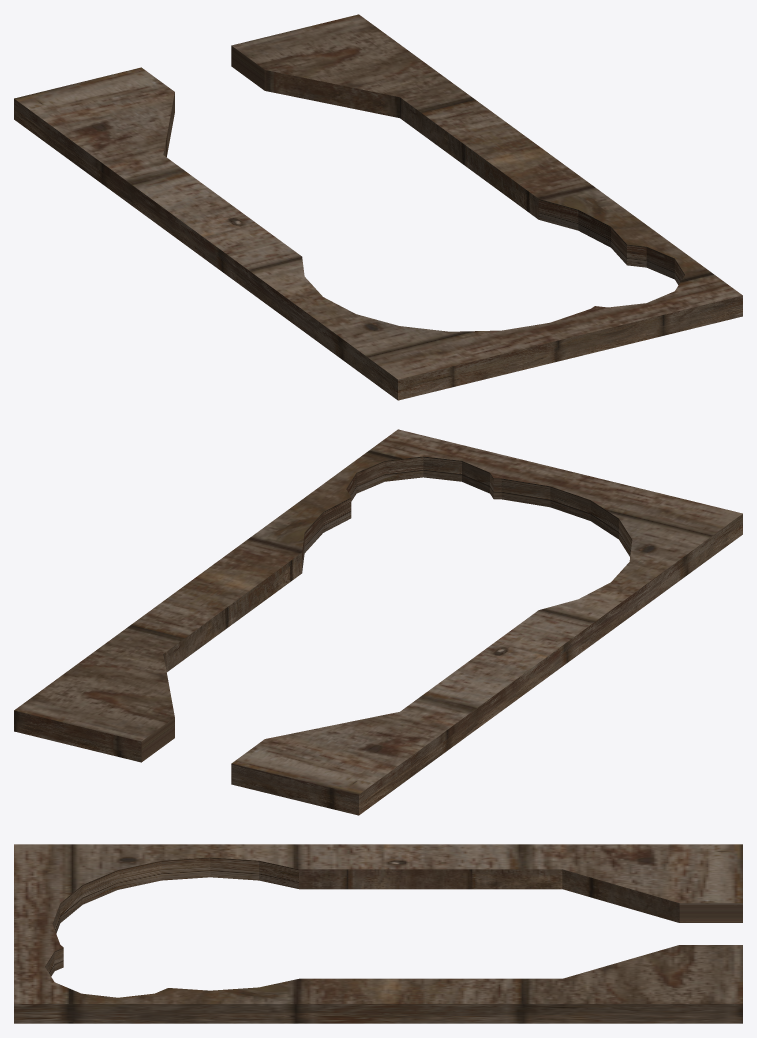
File: pinball.obj
The picture shows the model from 3 angles, top to bottom: view 1: azimuth 30°, elevation 25°; view 2: azimuth 150°, elevation 25°; view 3: azimuth 270°, elevation 25°; orthographic projection. The views are drawn at different scales.
Parts seen in each view (by area): view 1: Cube.001; view 2: Cube.001; view 3: Cube.001.
Boxes of the visible parts, box(x1,y1,x2,y2) form: Cube.001: box(14, 14, 742, 400); Cube.001: box(14, 429, 742, 815); Cube.001: box(14, 844, 742, 1023).
Bounding box in the file's own units: 103 × 6 × 199.
Materials: 1 (1 with a texture image).
